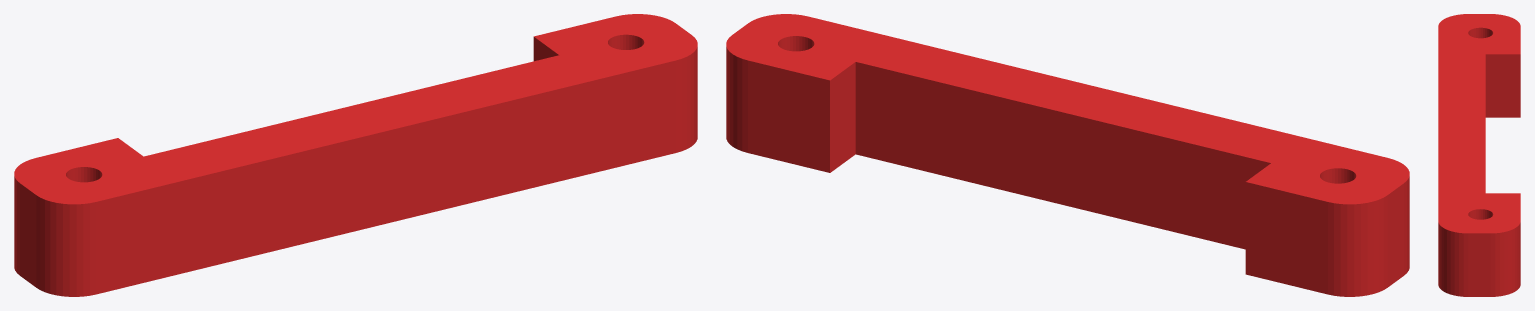
The model's file is arm1.dae.
3 views of the same model, side by side, from view 1: azimuth 30°, elevation 25°; view 2: azimuth 150°, elevation 25°; view 3: azimuth 270°, elevation 25° (orthographic). The views are drawn at different scales.
Parts seen in each view (by area): view 1: Arm; view 2: Arm; view 3: Arm.
Part boxes in pixels (bbox=[...]): Arm: bbox=[14, 14, 697, 296]; Arm: bbox=[726, 14, 1409, 296]; Arm: bbox=[1438, 14, 1520, 296].
Bounding box in the file's own units: 0.0519 × 0.00824 × 0.007.
